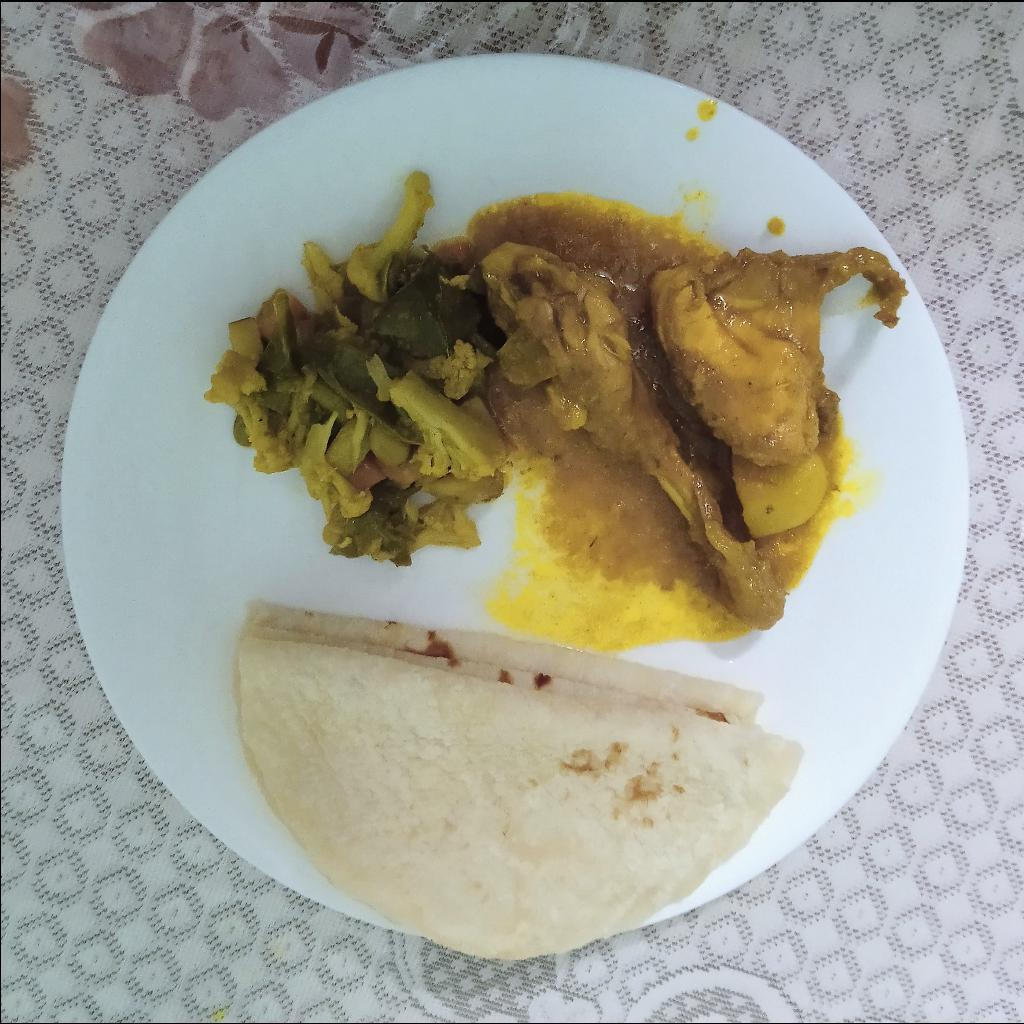chicken: (487, 240, 903, 617)
ruti: (242, 606, 804, 961)
vegetable: (207, 162, 516, 544)
